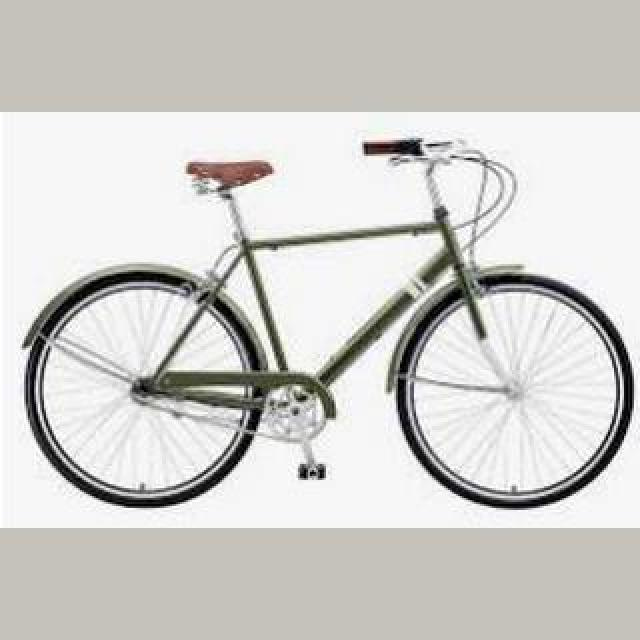Person: (21, 135, 637, 509)
